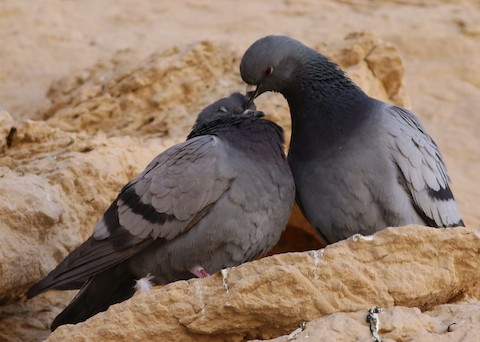pigeon: (25, 91, 300, 336), (235, 22, 474, 246)
